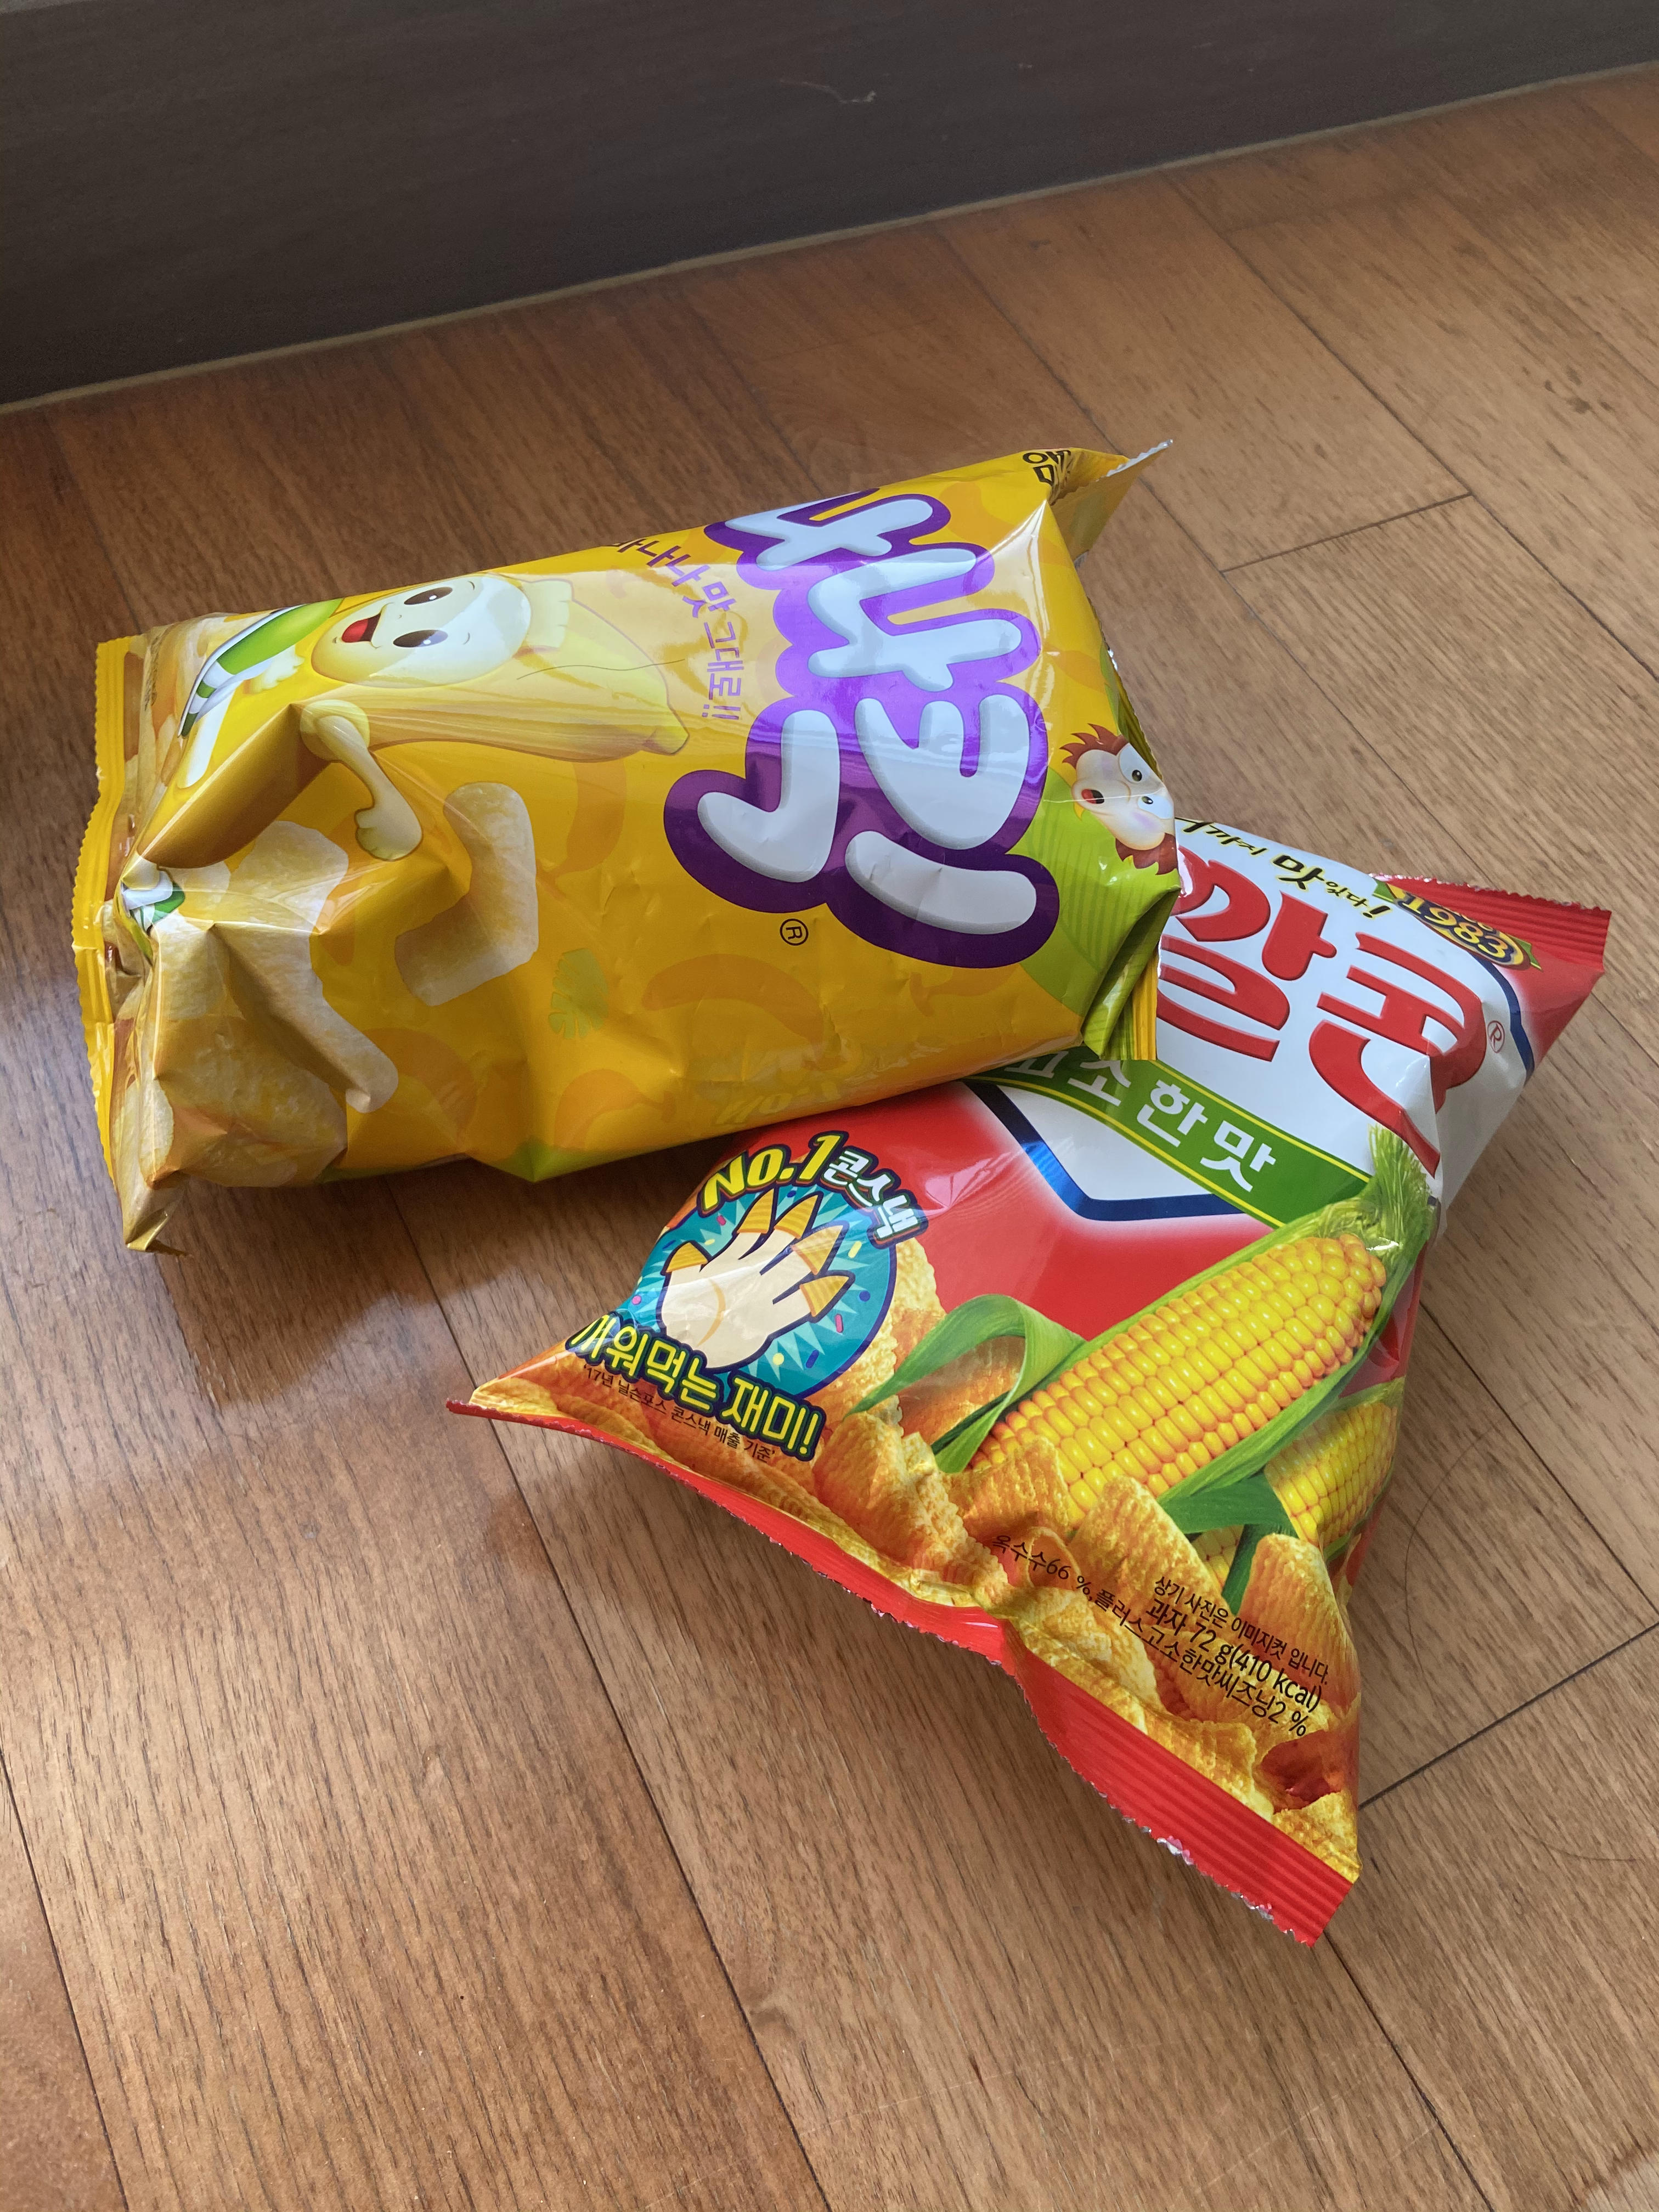banana: (52, 427, 1190, 1259)
ggoggalcon: (411, 796, 1619, 1940)
